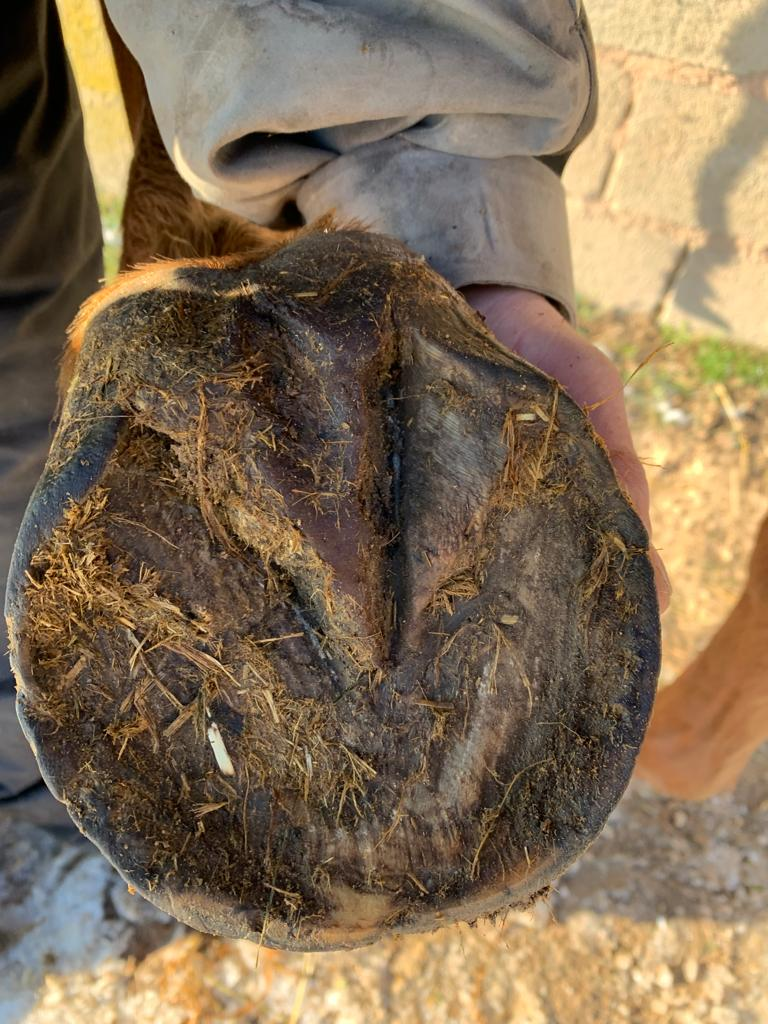horsesole: (5, 322, 662, 951)
